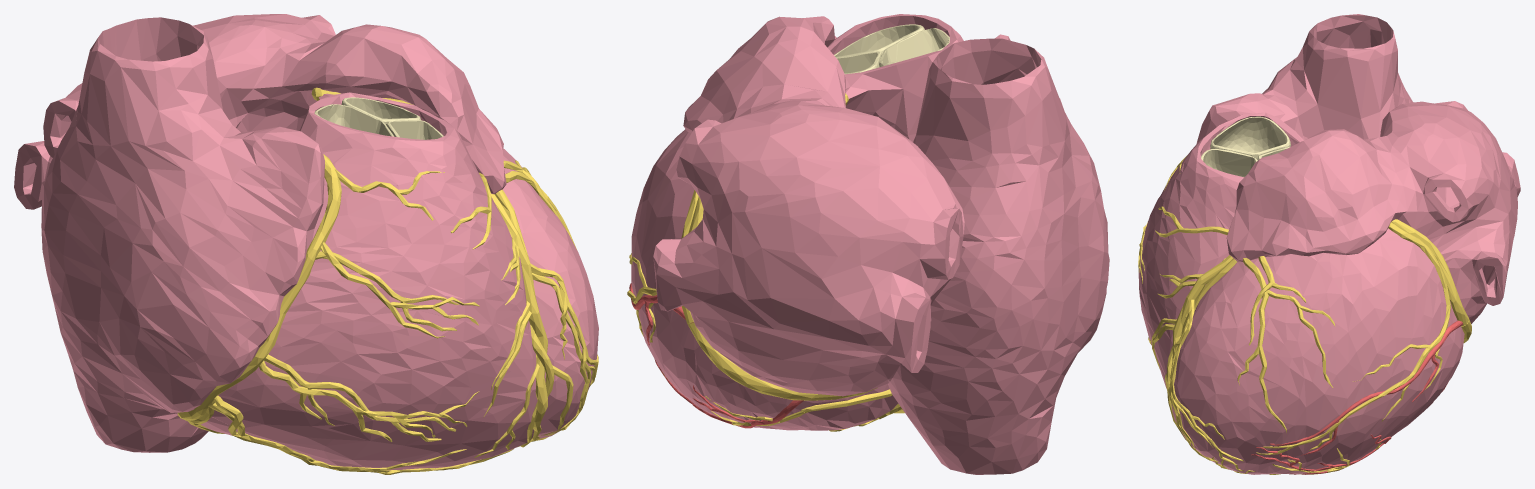
The model's file is human-heart.glb.
The picture shows the model from 3 angles, left to right: view 1: azimuth 30°, elevation 25°; view 2: azimuth 150°, elevation 25°; view 3: azimuth 270°, elevation 25°; orthographic projection. The views are drawn at different scales.
Parts seen in each view (by area): view 1: heart-wall, coronary, valves; view 2: heart-wall, coronary, valves, left-ventricle; view 3: heart-wall, coronary, valves, left-ventricle.
Boxes of the visible parts, left/top/right/bottom form: heart-wall: left=14, top=14, right=598, bottom=470; coronary: left=177, top=87, right=598, bottom=474; valves: left=314, top=97, right=443, bottom=139; heart-wall: left=631, top=14, right=1109, bottom=474; coronary: left=627, top=93, right=904, bottom=431; valves: left=834, top=24, right=949, bottom=74; left-ventricle: left=629, top=283, right=803, bottom=428; heart-wall: left=1138, top=14, right=1520, bottom=474; coronary: left=1138, top=155, right=1471, bottom=474; valves: left=1201, top=116, right=1290, bottom=177; left-ventricle: left=1251, top=320, right=1462, bottom=474.
Size of the model in its own units: 116 by 105 by 110.
